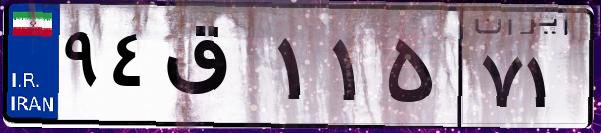1: (270, 28, 330, 110), (330, 28, 385, 110), (525, 38, 570, 115)
4: (110, 28, 158, 98)
5: (385, 28, 445, 110)
7: (475, 38, 525, 113)
9: (57, 26, 110, 100)
ق: (158, 20, 270, 120)
